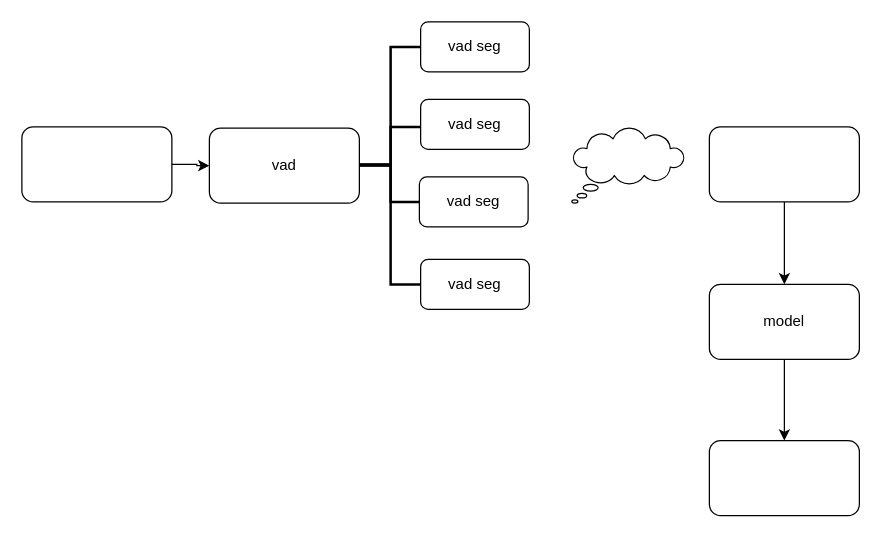
Some shapes in this 881 by 538 pixel diagram are drawn without their labels. The shapes that lost their labels are listed below. From the top down, each one's centre as x and y in pixels, then its label:
At pixel 96 164: "PCM".
At pixel 783 164: "server".
At pixel 783 477: "voiceTextEditPanle".
